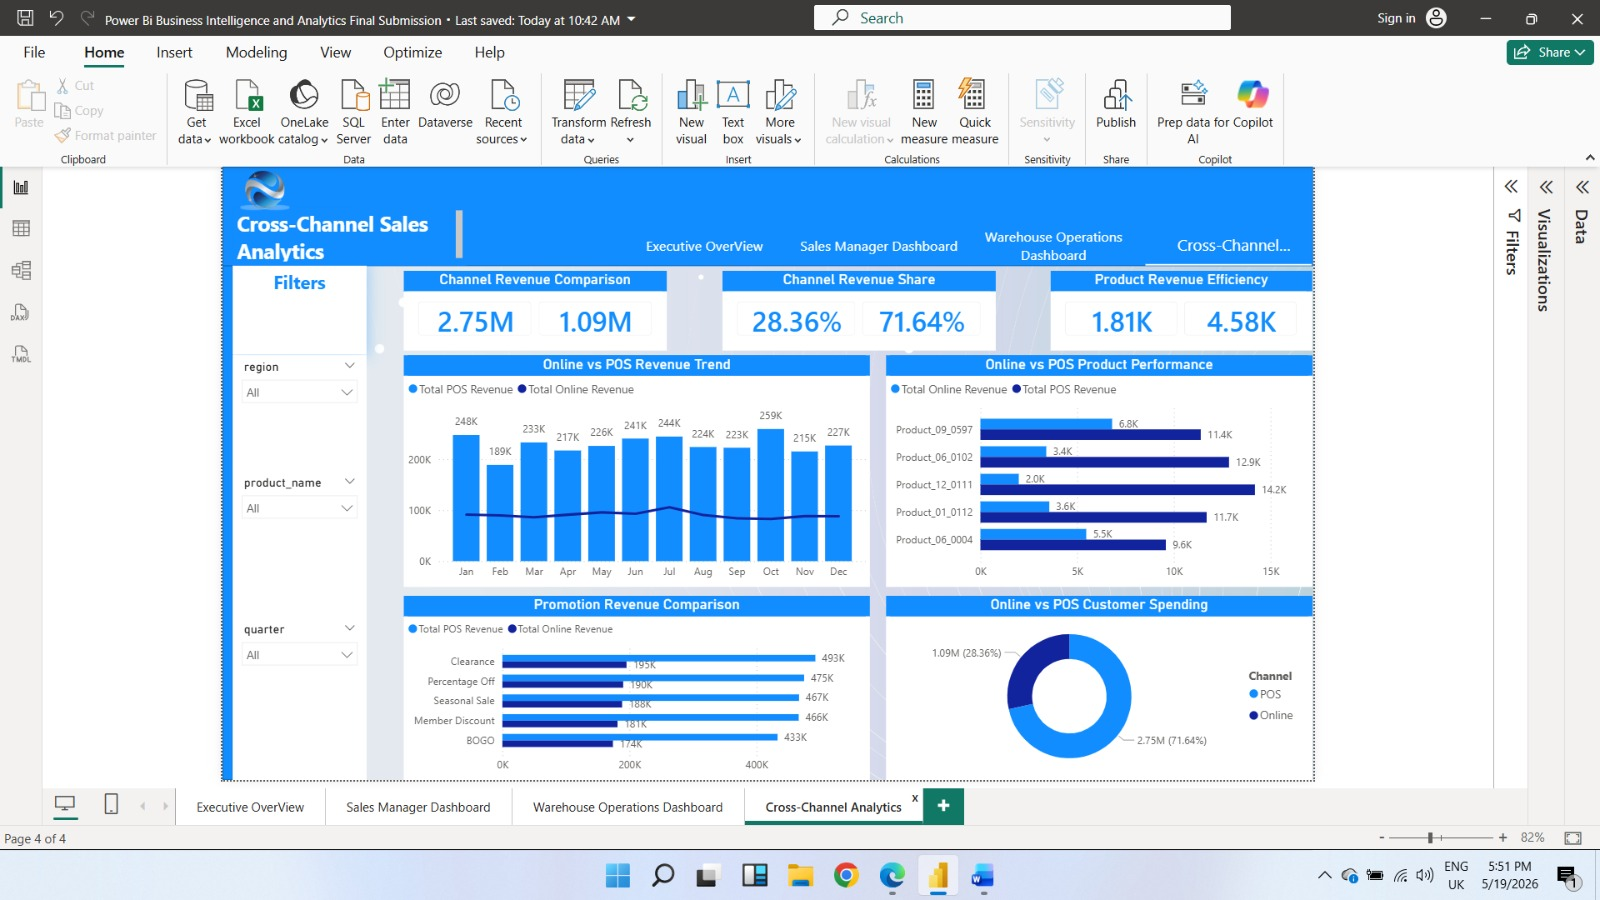

The dashboard page shown, as its layout file describes it:
{"tool":"powerbi","page":{"name":"Cross-Channel Analytics","canvas":[1280,720],"ordinal":3},"visuals":[{"type":"shape","box":[0,0,1280.3,116.6],"z":0},{"type":"shape","box":[0,116.6,12.3,603.8],"z":1000},{"type":"textbox","box":[12.3,116.6,156.4,603.8],"z":2000},{"type":"textbox","box":[12.3,116.6,156.4,104.3],"z":3000},{"type":"textbox","box":[12.3,46.7,274.4,70],"z":4000},{"type":"image","box":[12.3,0,75.5,52.1],"z":5000},{"type":"pageNavigator","box":[467.9,67.2,812.4,49.4],"z":6000},{"type":"lineClusteredColumnComboChart","title":"Online vs POS Revenue Trend","fields":{"Category":["gold dim_date.Month Name"],"Y":["Measures .Total POS Revenue"],"Y2":["Measures .Total Online Revenue"]},"box":[212.7,220.9,547.5,271.7],"z":7000},{"type":"clusteredBarChart","title":"Online vs POS Product Performance","fields":{"Category":["gold dim_product.product_name"],"Y":["Measures .Total Online Revenue","Measures .Total POS Revenue"]},"box":[779.4,220.9,500.9,271.7],"z":8000},{"type":"clusteredBarChart","title":"Promotion Revenue Comparison","fields":{"Category":["gold dim_promotion.promo_type"],"Y":["Measures .Total POS Revenue","Measures .Total Online Revenue"]},"box":[212.7,503.6,547.5,216.8],"z":9000},{"type":"donutChart","title":"Online vs POS Customer Spending","fields":{"Category":["Sales_Channel.Channel"],"Y":["Measures .Channel Revenue"]},"box":[779.4,503.6,500.9,216.8],"z":10000},{"type":"cardVisual","title":"Channel Revenue Comparison","fields":{"Data":["Measures .Total POS Revenue","Measures .Total Online Revenue"]},"box":[212.7,122.1,308.7,93.3],"z":11000},{"type":"cardVisual","title":"Channel Revenue Share","fields":{"Data":["Measures .Online Revenue %","Measures .POS Revenue %"]},"box":[586.6,122.1,321.1,93.3],"z":12000},{"type":"cardVisual","title":"Product Revenue Efficiency","fields":{"Data":["Measures .Online Avg Revenue per Product","Measures .POS Avg Revenue per Product"]},"box":[972.6,122.1,307.4,93.3],"z":13000},{"type":"slicer","title":"Region","fields":{"Values":["gold dim_store.region"]},"box":[12.3,220.9,156.4,160.5],"z":13001},{"type":"slicer","title":"Product Name","fields":{"Values":["gold dim_product.product_name"]},"box":[12.3,381.5,156.4,174.3],"z":13002},{"type":"slicer","title":"Quarter","fields":{"Values":["gold dim_date.Date Hierarchy.quarter"]},"box":[12.3,555.7,156.4,164.7],"z":13003}]}

Visuals, with their boxes on the page's 1280x720 design canvas (x1, y1, x2, y2). These are canvas units, not pixel positions in the 1600x900 screenshot, which may show the page scaled, cropped or inside an application window:
shape: Rect(0, 0, 1280, 117)
shape: Rect(0, 117, 12, 720)
textbox: Rect(12, 117, 169, 720)
textbox: Rect(12, 117, 169, 221)
textbox: Rect(12, 47, 287, 117)
image: Rect(12, 0, 88, 52)
pageNavigator: Rect(468, 67, 1280, 117)
"Online vs POS Revenue Trend" lineClusteredColumnComboChart: Rect(213, 221, 760, 493)
"Online vs POS Product Performance" clusteredBarChart: Rect(779, 221, 1280, 493)
"Promotion Revenue Comparison" clusteredBarChart: Rect(213, 504, 760, 720)
"Online vs POS Customer Spending" donutChart: Rect(779, 504, 1280, 720)
"Channel Revenue Comparison" cardVisual: Rect(213, 122, 521, 215)
"Channel Revenue Share" cardVisual: Rect(587, 122, 908, 215)
"Product Revenue Efficiency" cardVisual: Rect(973, 122, 1280, 215)
"Region" slicer: Rect(12, 221, 169, 381)
"Product Name" slicer: Rect(12, 382, 169, 556)
"Quarter" slicer: Rect(12, 556, 169, 720)
